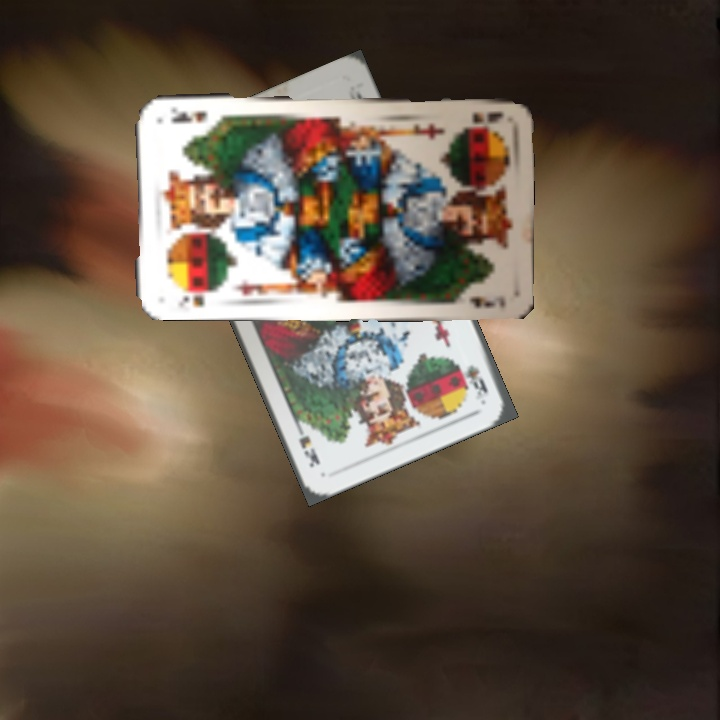SK: (461, 360, 491, 403), (173, 285, 217, 311), (467, 106, 506, 127)
